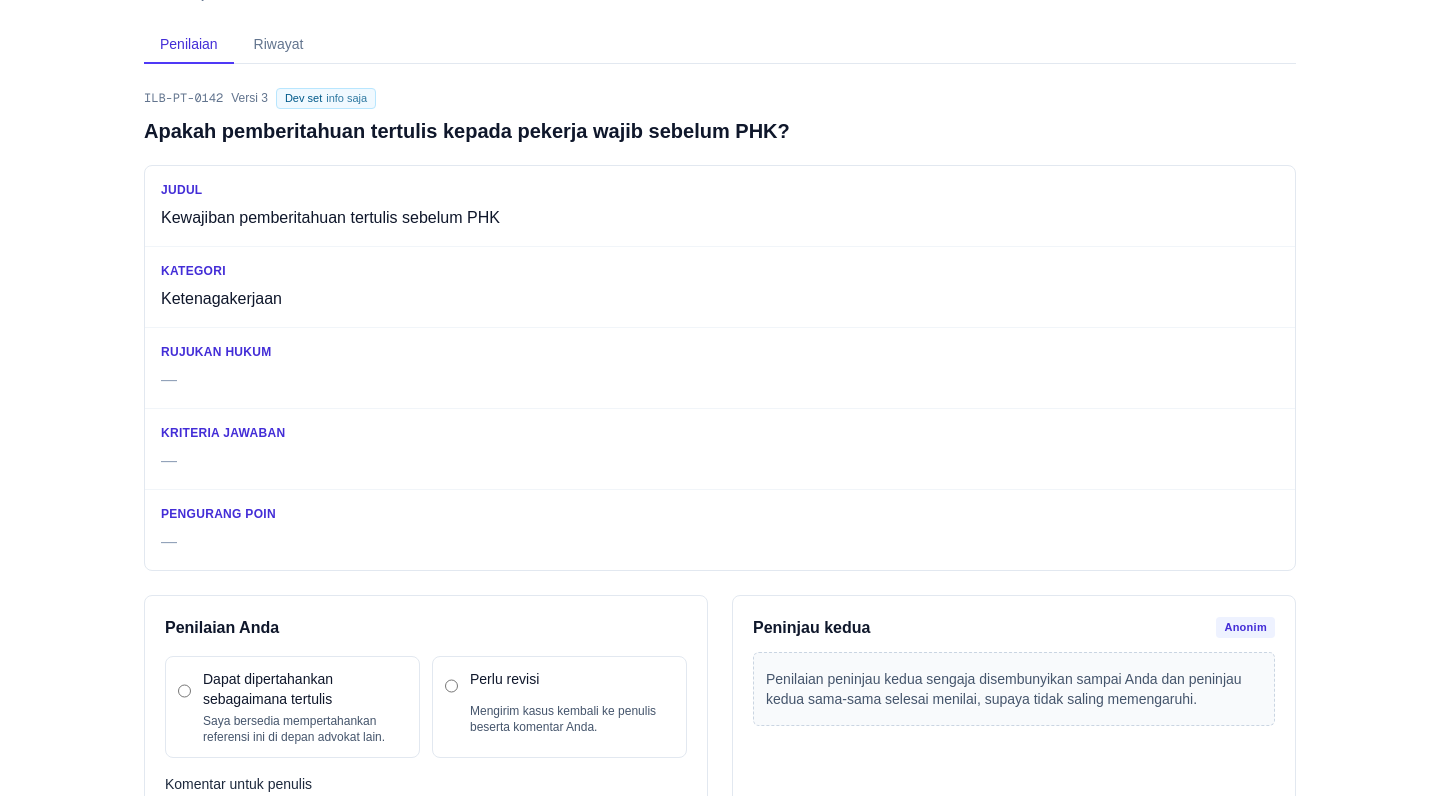
Test: ReviewAssignmentPage › shows the outcome and both verdicts when the send decides the round
What coordinates should you click on to do the following:
click the radio button labelled "Dapat dipertahankan sebagaimana tertulis"
I would click on:
 (184, 691)
Its box is [178,673,191,709].
(page scrolled)
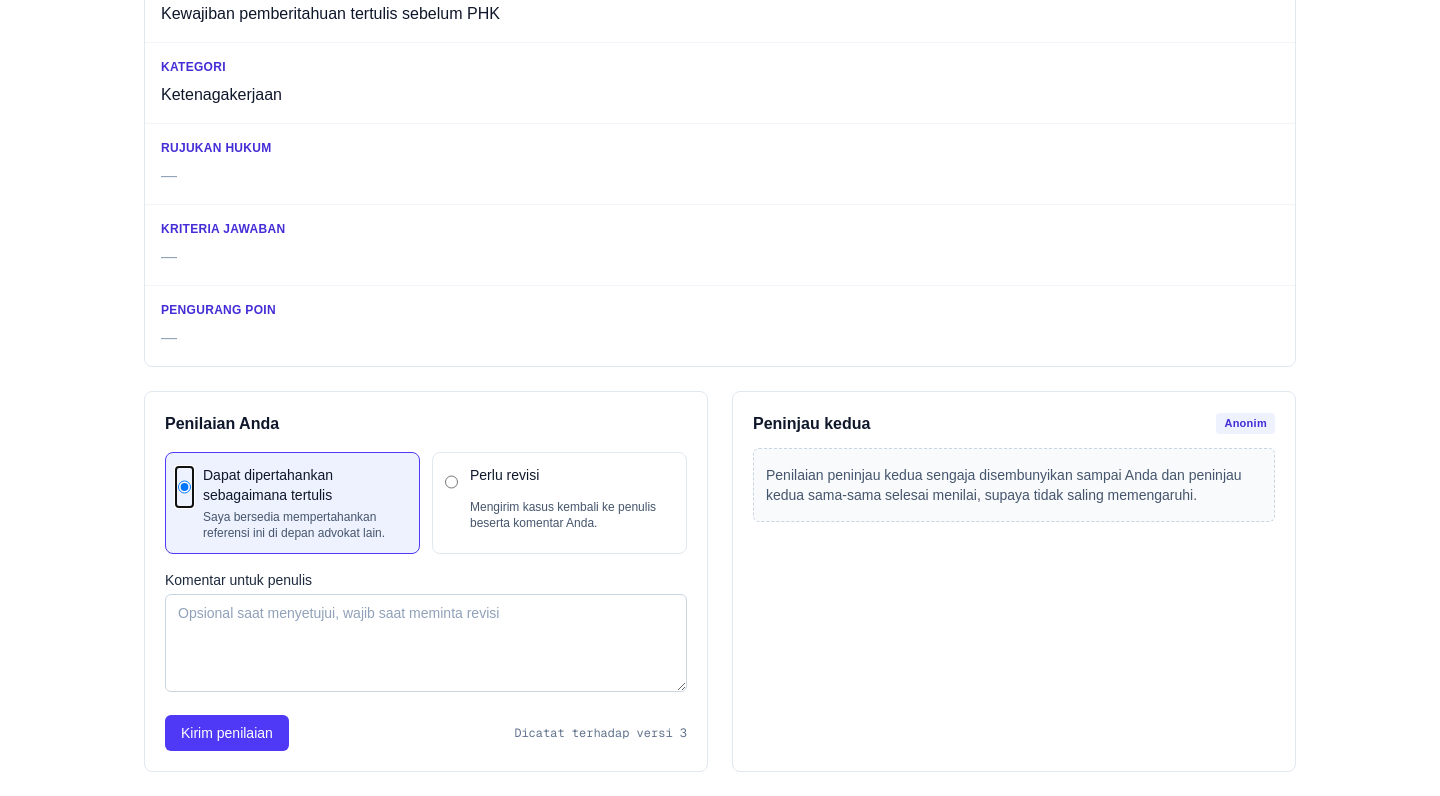
What coordinates should you click on to do the following:
click the button "Kirim penilaian"
I would click on:
 (227, 733)
Its box is [165,715,289,751].
(page scrolled)
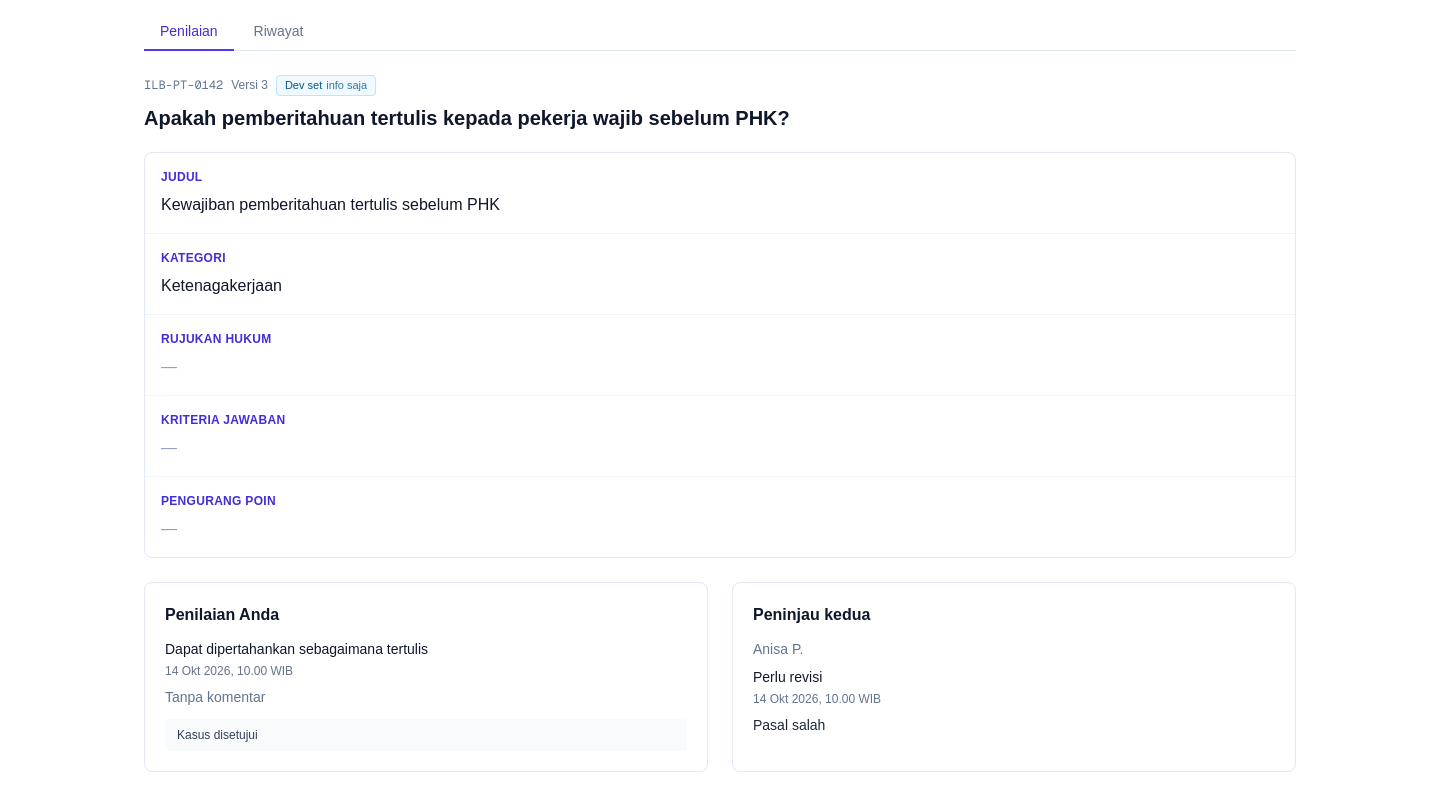
Expected: the text "Kasus disetujui" is shown, [165,719,687,751]
Expected: the text "Pasal salah" is shown, [753,717,825,733]
Expected: the text "Anonim" is gone
